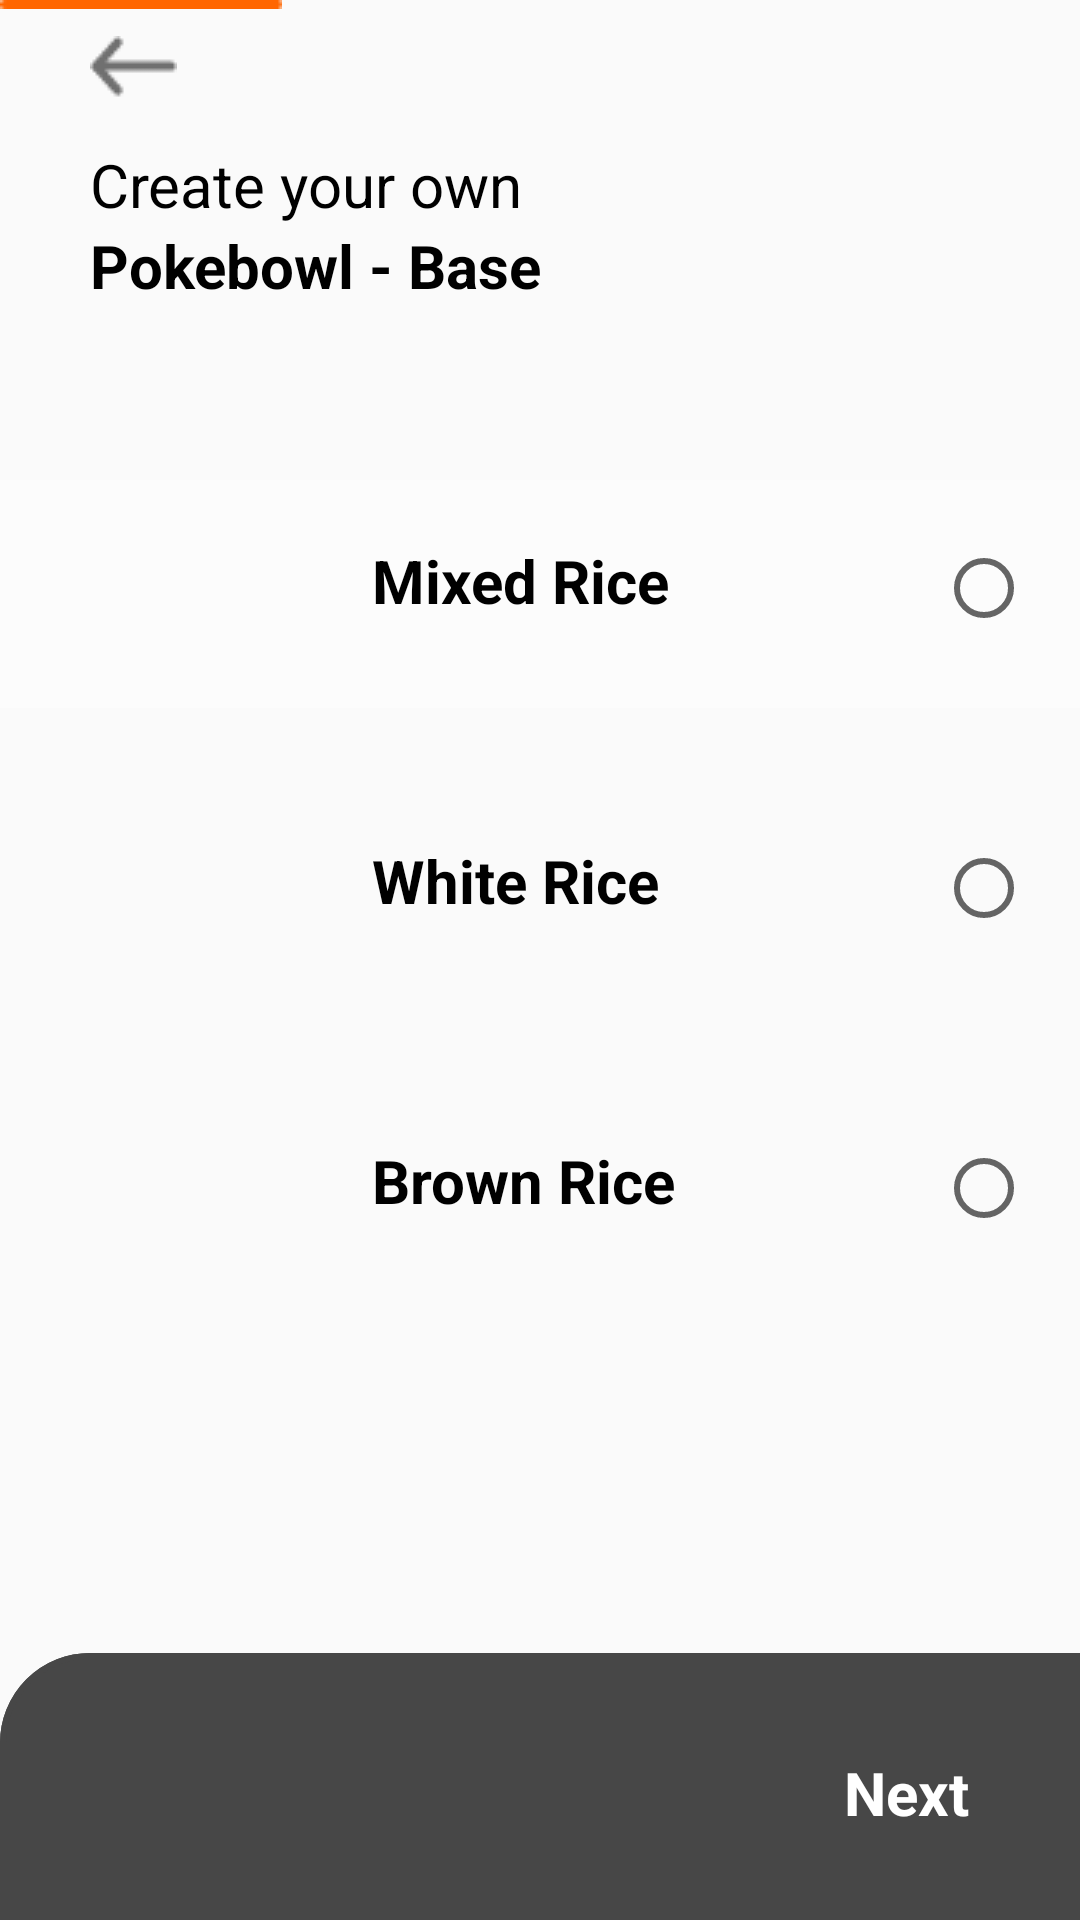

Where to tap for icons on this 1080x1920 app screen, as (x,y):
Arrow: (133,66)
